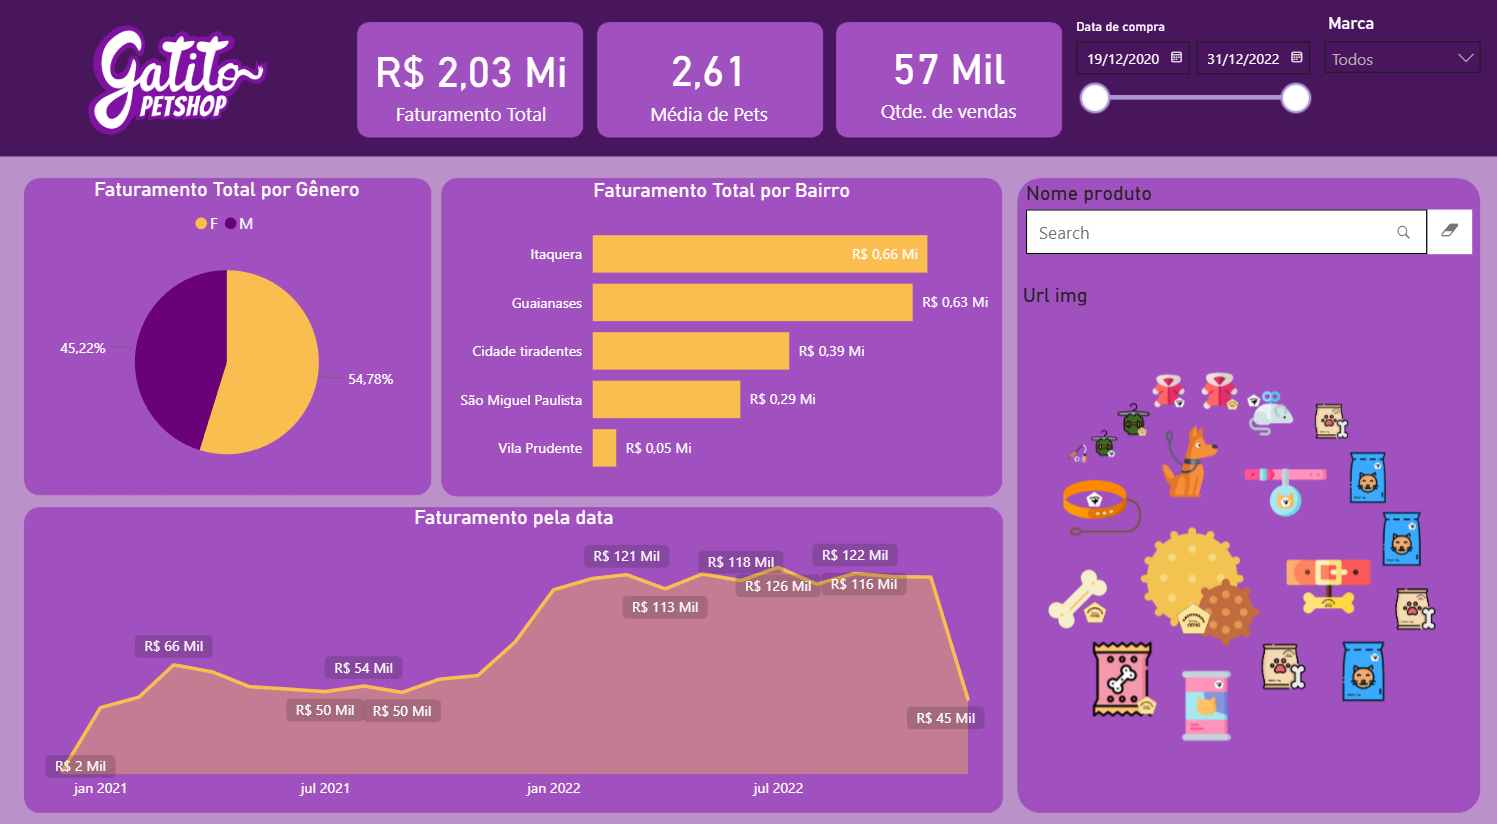

What the dashboard file says about the page in this screenshot:
{"tool":"powerbi","page":{"name":"Page 1","canvas":[1280,720],"ordinal":0},"visuals":[{"type":"card","fields":{"Values":["Avg(Clientes.Pets)"]},"box":[515.7,25.6,181.2,92.9],"z":0},{"type":"card","fields":{"Values":["Sum(Vendas.Quantidade)"]},"box":[714.3,22.1,190.5,95.2],"z":1000},{"type":"card","fields":{"Values":["Vendas.Faturamento Total"]},"box":[303.3,18,203.5,108.7],"z":2000},{"type":"pieChart","fields":{"Category":["Clientes.Gênero"],"Y":["Vendas.Faturamento Total"]},"box":[26.2,154.2,343.7,266.1],"z":4000},{"type":"clusteredBarChart","fields":{"Category":["Clientes.Bairro"],"Y":["Vendas.Faturamento Total"]},"box":[382,155.2,470.7,267.1],"z":5000},{"type":"areaChart","title":"Faturamento pela data","fields":{"Category":["Vendas.Data de compra.Variation.Date Hierarchy.Year","Vendas.Data de compra.Variation.Date Hierarchy.Quarter","Vendas.Data de compra.Variation.Date Hierarchy.Month","Vendas.Data de compra.Variation.Date Hierarchy.Day"],"Y":["Vendas.Faturamento Total"]},"box":[30.2,432.4,821.4,258],"z":6000},{"type":"ImageGrid_FC5183B9_926C_45E0_B5F7_0CE9EAF1DA9B","fields":{"ImageURL":["Produtos.Url img"]},"box":[867.8,243.9,382,444.5],"z":7000},{"type":"textFilter25A4896A83E0487089E2B90C9AE57C8A","fields":{"field":["Produtos.Nome produto"]},"box":[869.8,157.2,388,88.7],"z":8000},{"type":"slicer","fields":{"Values":["Produtos.Marca"]},"box":[1117.7,11.1,152.2,117.9],"z":9000},{"type":"slicer","fields":{"Values":["Vendas.Data de compra"]},"box":[905.1,15.1,219.7,111.9],"z":10000}]}

Visuals, with their boxes in screenshot pixels (x1, y1, x2, y2), scaled from the page's 1280x720 canvas onto the 1497x824 screenshot:
card - Avg(Clientes.Pets): (603, 29, 815, 136)
card - Sum(Vendas.Quantidade): (835, 25, 1058, 134)
card - Vendas.Faturamento Total: (355, 21, 593, 145)
pieChart - Clientes.Gênero x Vendas.Faturamento Total: (31, 176, 433, 481)
clusteredBarChart - Clientes.Bairro x Vendas.Faturamento Total: (447, 178, 997, 483)
"Faturamento pela data" areaChart: (35, 495, 996, 790)
ImageGrid_FC5183B9_926C_45E0_B5F7_0CE9EAF1DA9B - Produtos.Url img: (1015, 279, 1462, 788)
textFilter25A4896A83E0487089E2B90C9AE57C8A - Produtos.Nome produto: (1017, 180, 1471, 281)
slicer - Produtos.Marca: (1307, 13, 1485, 148)
slicer - Vendas.Data de compra: (1059, 17, 1315, 145)
